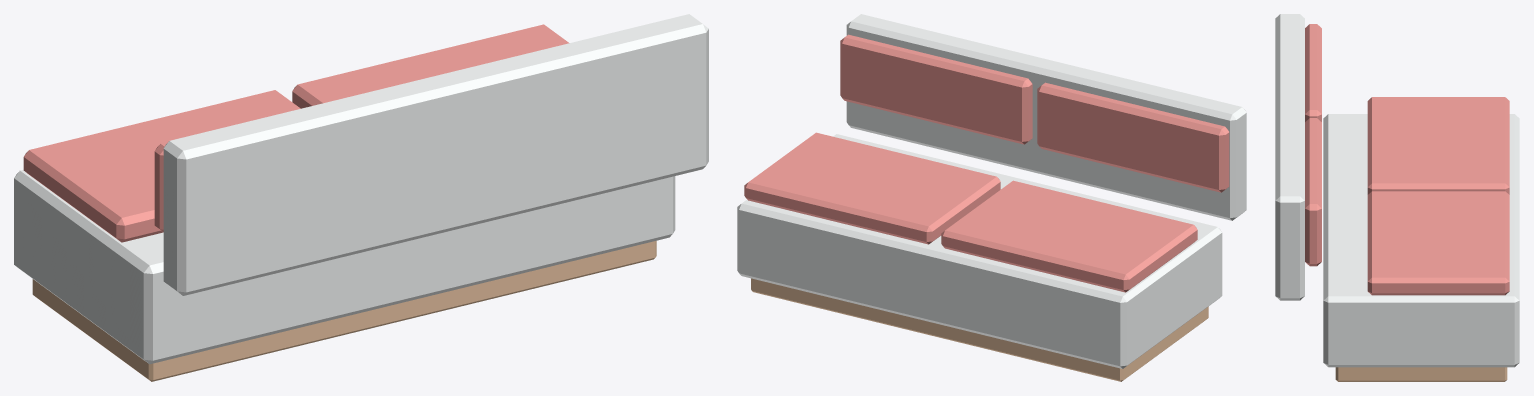
The model's file is diner_booth.glb.
3 renders of one model, left to right at view 1: azimuth 30°, elevation 25°; view 2: azimuth 150°, elevation 25°; view 3: azimuth 270°, elevation 25°, orthographic. The views are drawn at different scales.
Visible parts, largest first — view 1: Tall back shell, Padded bench base, Left seat cushion, Wood foot plinth, Right seat cushion, Left back cushion; view 2: Padded bench base, Tall back shell, Left seat cushion, Right seat cushion, Right back cushion, Left back cushion, Wood foot plinth; view 3: Padded bench base, Right seat cushion, Left seat cushion, Tall back shell, Wood foot plinth, Right back cushion, Left back cushion.
Part boxes in pixels (left/top/right/bottom): Tall back shell: left=163, top=14, right=708, bottom=295; Padded bench base: left=14, top=170, right=675, bottom=364; Left seat cushion: left=23, top=90, right=300, bottom=242; Wood foot plinth: left=32, top=240, right=656, bottom=381; Right seat cushion: left=292, top=24, right=569, bottom=108; Left back cushion: left=154, top=142, right=167, bottom=232; Padded bench base: left=737, top=134, right=1222, bottom=368; Tall back shell: left=846, top=14, right=1246, bottom=220; Left seat cushion: left=941, top=180, right=1197, bottom=292; Right seat cushion: left=744, top=132, right=1000, bottom=244; Right back cushion: left=840, top=34, right=1032, bottom=144; Left back cushion: left=1037, top=82, right=1229, bottom=192; Wood foot plinth: left=751, top=278, right=1208, bottom=381; Padded bench base: left=1323, top=114, right=1519, bottom=367; Right seat cushion: left=1367, top=191, right=1509, bottom=295; Left seat cushion: left=1367, top=97, right=1509, bottom=194; Tall back shell: left=1275, top=14, right=1304, bottom=300; Wood foot plinth: left=1335, top=367, right=1507, bottom=381; Right back cushion: left=1305, top=118, right=1321, bottom=266; Left back cushion: left=1305, top=24, right=1321, bottom=121.
Size of the model in its own units: 0.9 by 0.425 by 0.498.
